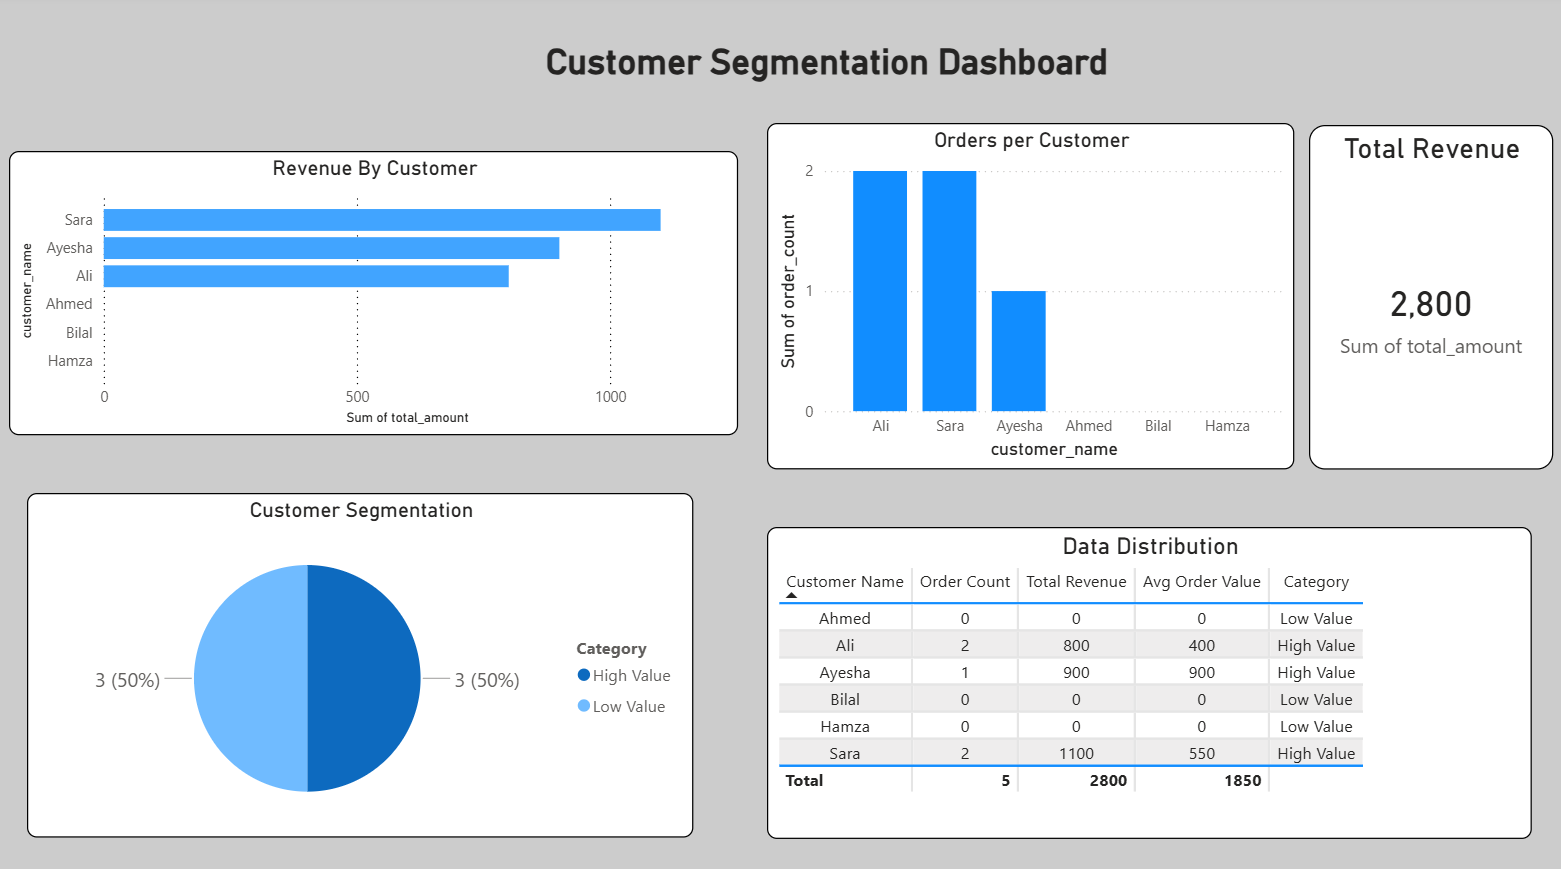

This screenshot's page, from the dashboard's own definition file:
{"tool":"powerbi","page":{"name":"Page 1","canvas":[1280,720],"ordinal":0},"visuals":[{"type":"card","title":"Total Revenue","fields":{"Values":["Sum(Sheet1.total_amount)"]},"box":[1066.7,106.7,198.3,280],"z":0},{"type":"pieChart","title":"Customer Segmentation","fields":{"Category":["Sheet1.category"],"Y":["CountNonNull(Sheet1.customer_name)"]},"box":[24.6,407.1,541.5,280.2],"z":1000},{"type":"clusteredBarChart","title":"Revenue By Customer","fields":{"Y":["Sum(Sheet1.total_amount)"],"Category":["Sheet1.customer_name"]},"box":[9.5,128.8,592.7,231],"z":2000},{"type":"clusteredColumnChart","title":"Orders per Customer","fields":{"Category":["Sheet1.customer_name"],"Y":["Sum(Sheet1.order_count)"]},"box":[625,105,428.3,281.7],"z":3000},{"type":"textbox","box":[359.8,34.1,630.5,53],"z":4000},{"type":"tableEx","title":"Data Distribution","fields":{"Values":["Sheet1.customer_name","Sum(Sheet1.order_count)","Sum(Sheet1.total_amount)","Sum(Sheet1.avg_order_value)","Sheet1.category"]},"box":[625,433.3,621.7,253.3],"z":5000}]}

Visuals, with their boxes in screenshot pixels (x1, y1, x2, y2), scaled from the page's 1280x720 canvas onto the 1561x869 screenshot:
"Total Revenue" card: pyautogui.locateOnScreen(1301, 129, 1543, 467)
"Customer Segmentation" pieChart: pyautogui.locateOnScreen(30, 491, 690, 830)
"Revenue By Customer" clusteredBarChart: pyautogui.locateOnScreen(12, 155, 734, 434)
"Orders per Customer" clusteredColumnChart: pyautogui.locateOnScreen(762, 127, 1285, 467)
textbox: pyautogui.locateOnScreen(439, 41, 1208, 105)
"Data Distribution" tableEx: pyautogui.locateOnScreen(762, 523, 1520, 829)
